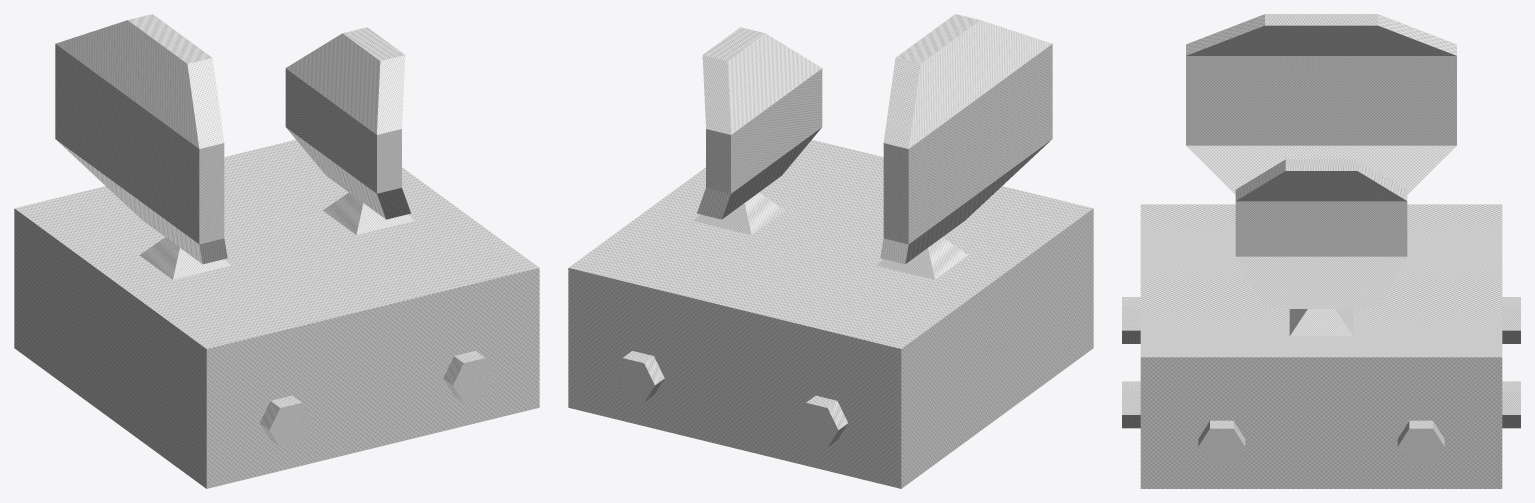
Rendered from SolarSails.dae.
3 views of the same model, side by side, from view 1: azimuth 30°, elevation 25°; view 2: azimuth 150°, elevation 25°; view 3: azimuth 270°, elevation 25° (orthographic). The views are drawn at different scales.
Visible parts, largest first — view 1: SolarSails; view 2: SolarSails; view 3: SolarSails.
Boxes of the visible parts, box(x1,y1,x2,y2) form: SolarSails: box(14, 14, 539, 488); SolarSails: box(568, 14, 1093, 488); SolarSails: box(1122, 14, 1520, 488).
Bounding box in the file's own units: 1.91 × 1.9 × 2.
